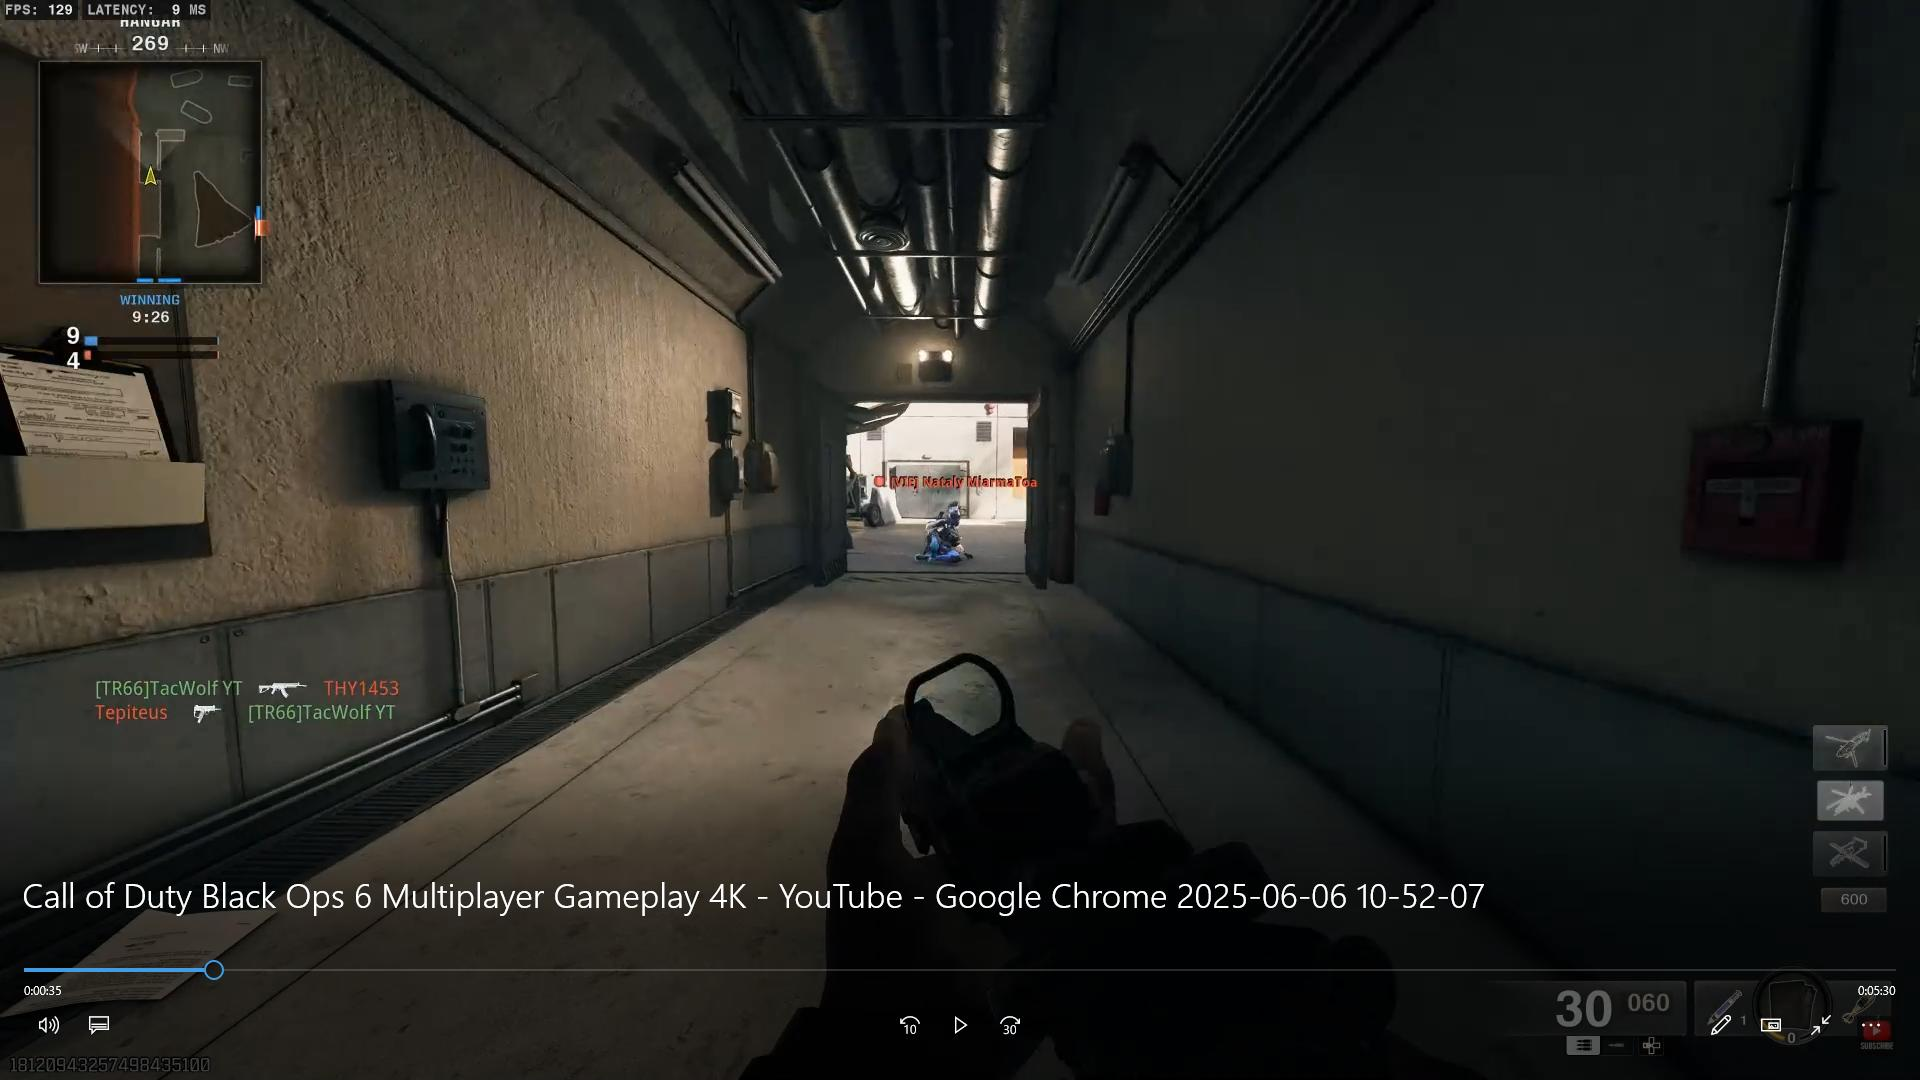Enemy: (881, 458, 1019, 595)
